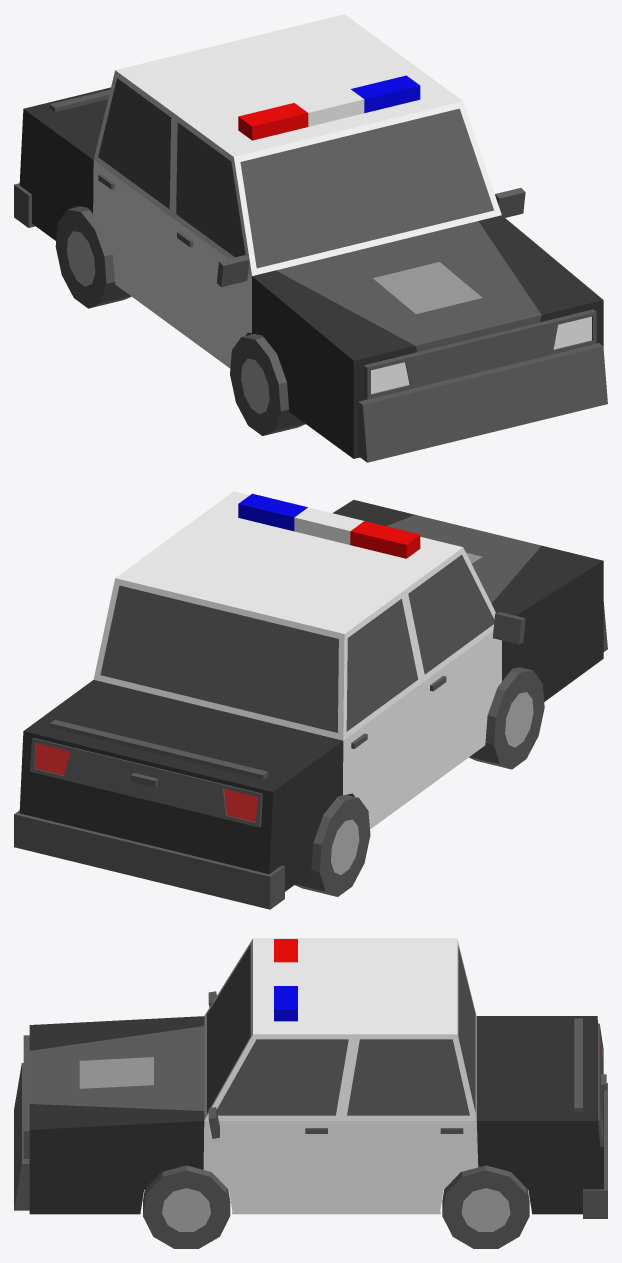
Rendered from SM_PoliceCar_01.FBX.
3 views of the same model, one above another, from view 1: azimuth 30°, elevation 25°; view 2: azimuth 150°, elevation 25°; view 3: azimuth 270°, elevation 25° (orthographic). The views are drawn at different scales.
Parts seen in each view (by area): view 1: SM_PoliceCar, SM_Wheel_RBack001, SM_Wheel_LFront001; view 2: SM_PoliceCar, SM_Wheel_LFront001, SM_Wheel_RBack001; view 3: SM_PoliceCar, SM_Wheel_LBack001, SM_Wheel_LFront002.
Boxes of the visible parts, left/top/right/bottom form: SM_PoliceCar: left=14, top=14, right=607, bottom=462; SM_Wheel_RBack001: left=55, top=206, right=131, bottom=308; SM_Wheel_LFront001: left=230, top=334, right=305, bottom=435; SM_PoliceCar: left=14, top=491, right=607, bottom=909; SM_Wheel_LFront001: left=469, top=667, right=544, bottom=769; SM_Wheel_RBack001: left=295, top=795, right=370, bottom=896; SM_PoliceCar: left=14, top=938, right=607, bottom=1218; SM_Wheel_LBack001: left=442, top=1165, right=529, bottom=1248; SM_Wheel_LFront002: left=143, top=1165, right=230, bottom=1248.
Size of the model in its own units: 1.7 by 1.37 by 3.37.
1 material, 1 textured.
